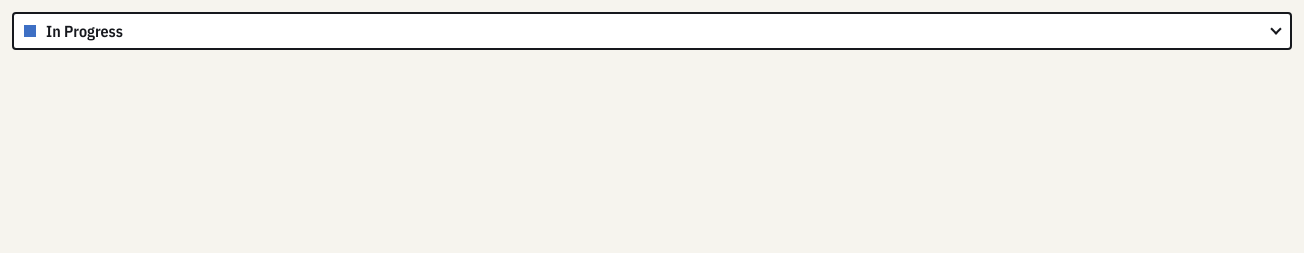
controlled open (the S key) and onOpenChange › reportsEveryOpenAndCloseTheUserCauses
This screenshot has width=1304, height=253.
Later steps or results of the test are not shown.
Click the dropdown named "status" at point(652, 31), box [12, 12, 1292, 50]
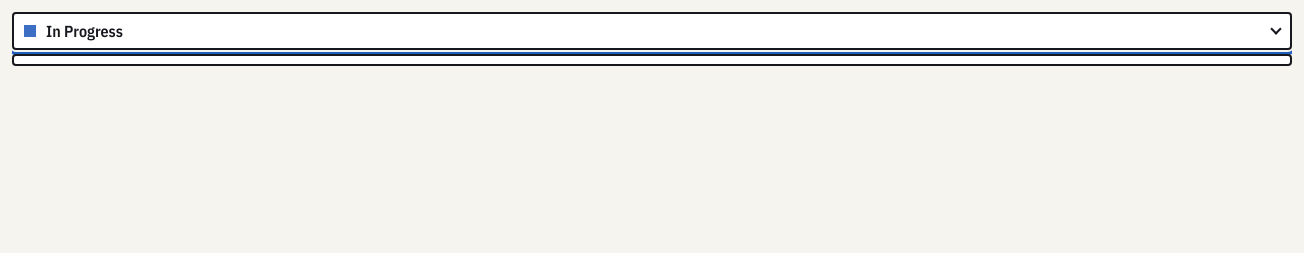
Expected: the list is shown, [14, 56, 1290, 64]
Press Escape
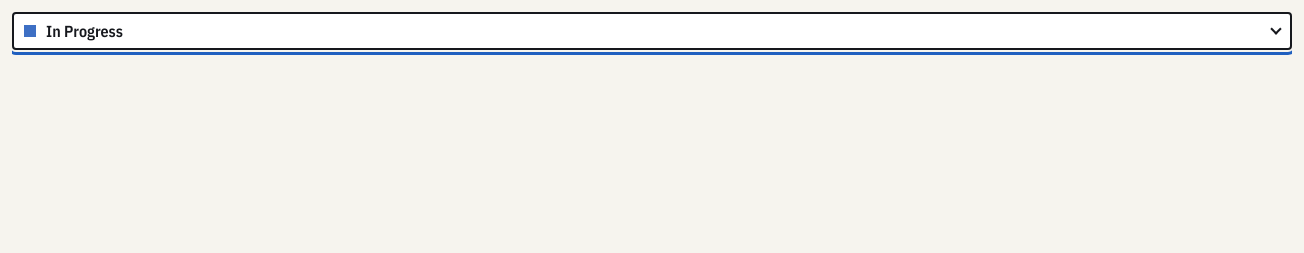
Click the dropdown named "status" at point(652, 31), box [12, 12, 1292, 50]
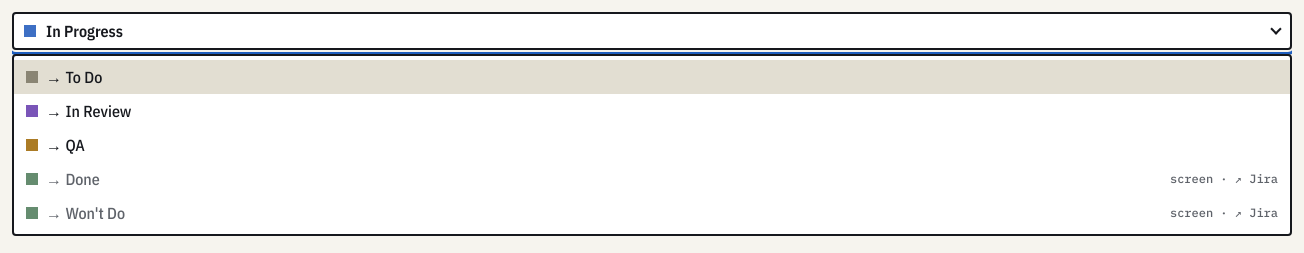
Expected: the list is shown
